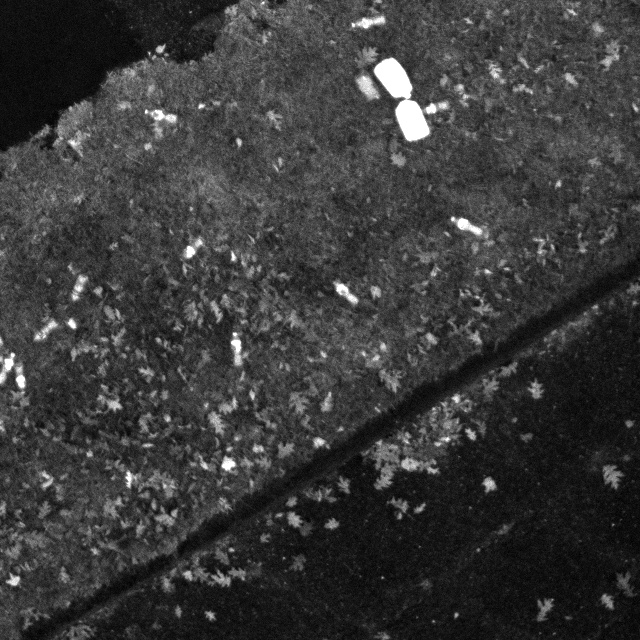bottle: (446, 212, 487, 245), (331, 279, 360, 310), (32, 318, 62, 344), (143, 105, 180, 126), (68, 272, 90, 305), (228, 333, 245, 371), (178, 237, 206, 260), (420, 100, 453, 119)
can: (370, 55, 417, 103), (390, 97, 434, 147)
container: (353, 72, 386, 107)
